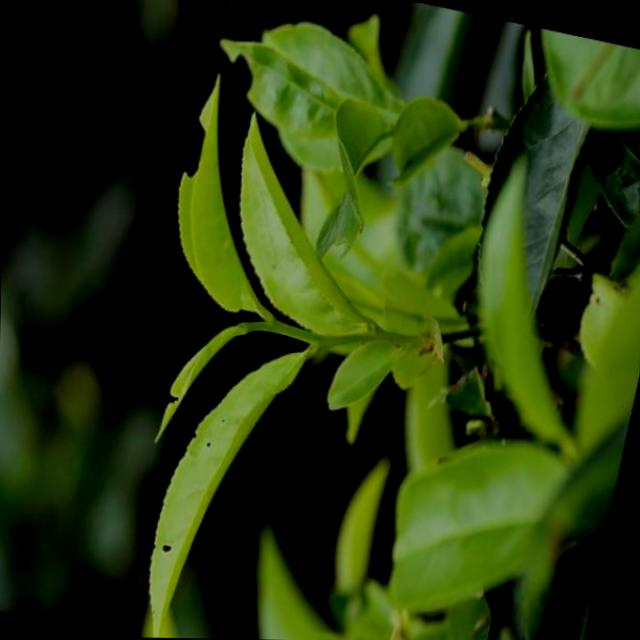Stem: (312, 334, 327, 346)
